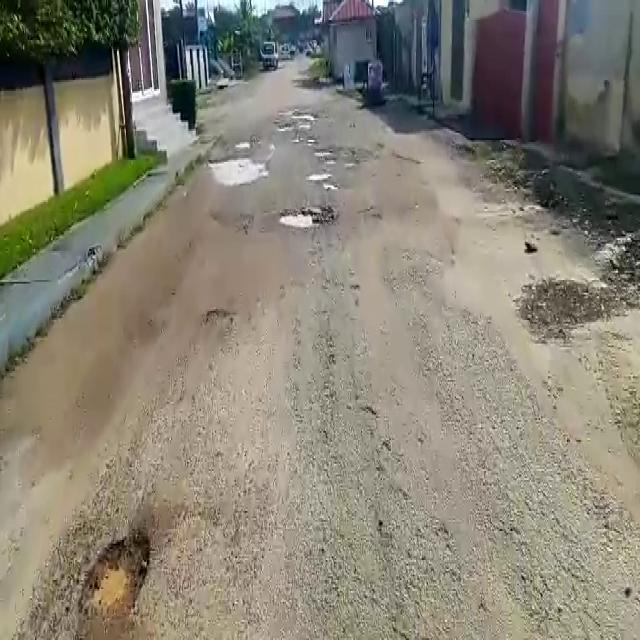pothole: (84, 531, 154, 627), (210, 152, 266, 184), (278, 205, 329, 228), (314, 145, 350, 160), (306, 174, 334, 184)
